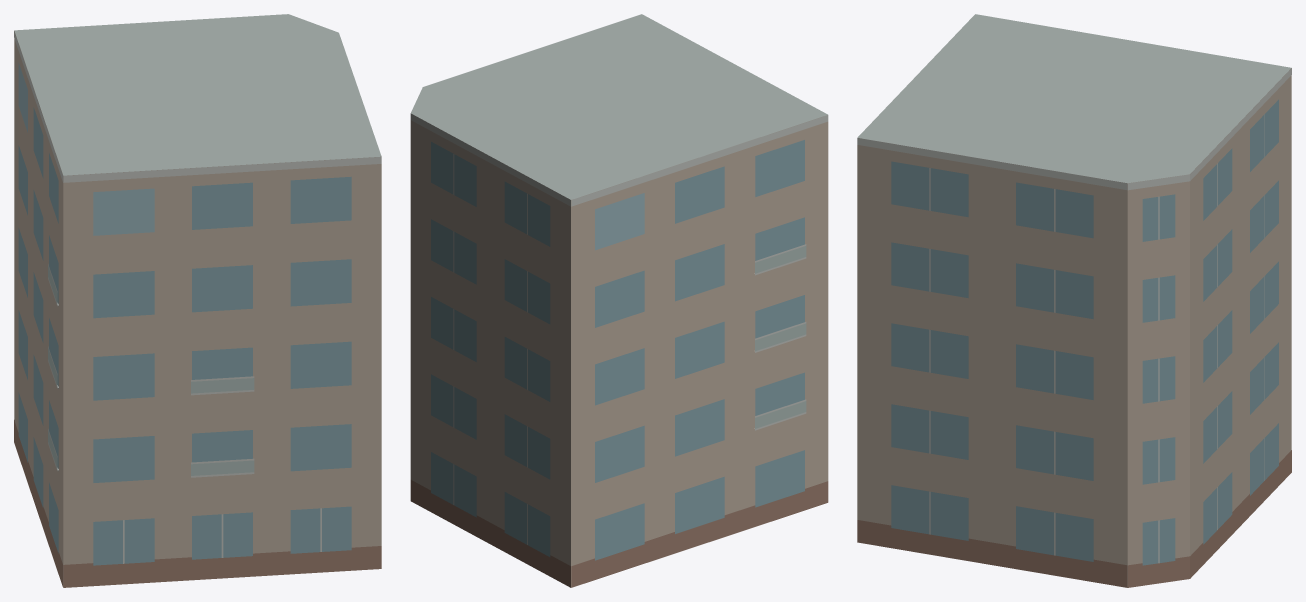
Rendered from survey-upis-32733346.glb.
The picture shows the model from 3 angles, left to right: view 1: azimuth 30°, elevation 25°; view 2: azimuth 150°, elevation 25°; view 3: azimuth 270°, elevation 25°; orthographic projection. The views are drawn at different scales.
Parts seen in each view (by area): view 1: survey-upis-32733346.tmp; view 2: survey-upis-32733346.tmp; view 3: survey-upis-32733346.tmp.
Boxes of the visible parts, x1,y1,x2,y2 form: survey-upis-32733346.tmp: (14,14,381,587); survey-upis-32733346.tmp: (410,14,828,587); survey-upis-32733346.tmp: (857,14,1291,587).
Bounding box in the file's own units: 12.57 × 14 × 13.64.
